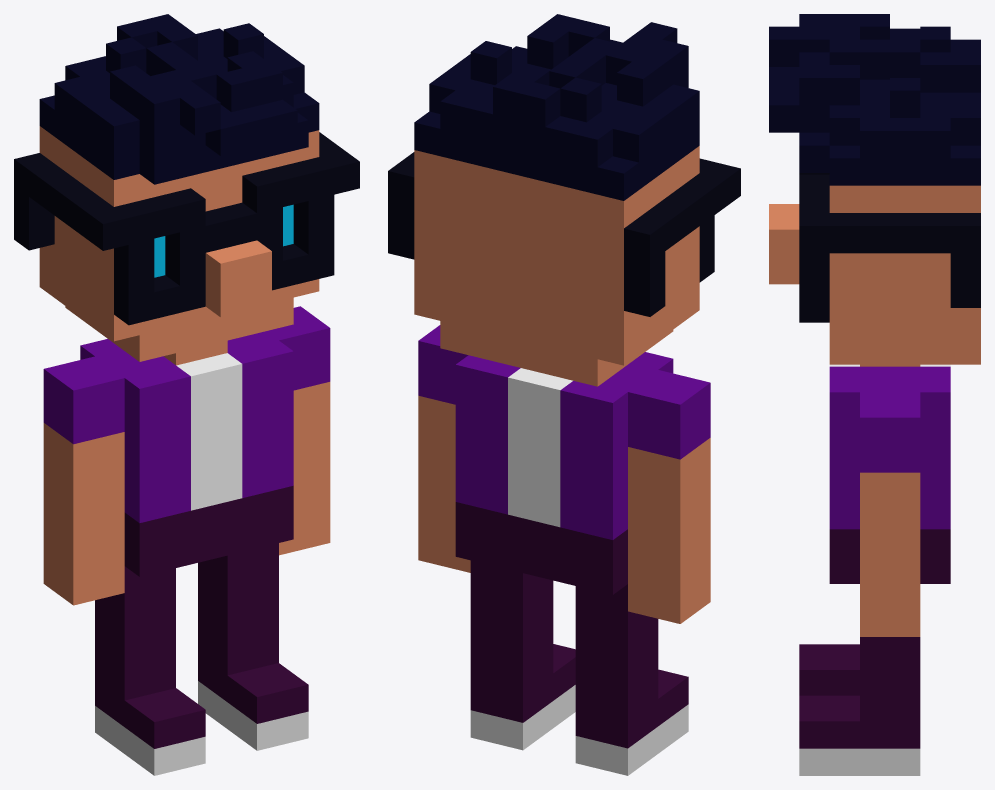
Rendered from main.obj.
3 views of the same model, side by side, from view 1: azimuth 30°, elevation 25°; view 2: azimuth 150°, elevation 25°; view 3: azimuth 270°, elevation 25° (orthographic). The views are drawn at different scales.
Size of the model in its own units: 1 by 2.5 by 0.7.
1 material, 1 textured.
